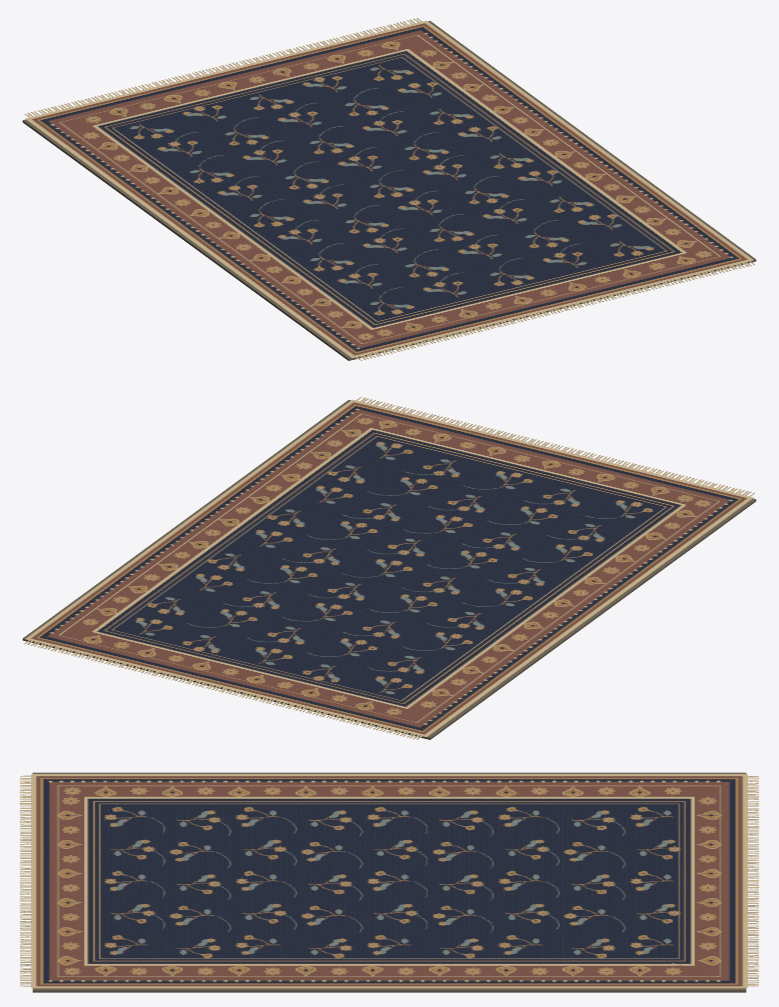
The model's file is officePersianMidnight.glb.
3 renders of one model, top to bottom at view 1: azimuth 30°, elevation 25°; view 2: azimuth 150°, elevation 25°; view 3: azimuth 270°, elevation 25°, orthographic. The views are drawn at different scales.
Bounding box in the file's own units: 2.4 × 0.014 × 3.5.
2 materials, 1 textured.
